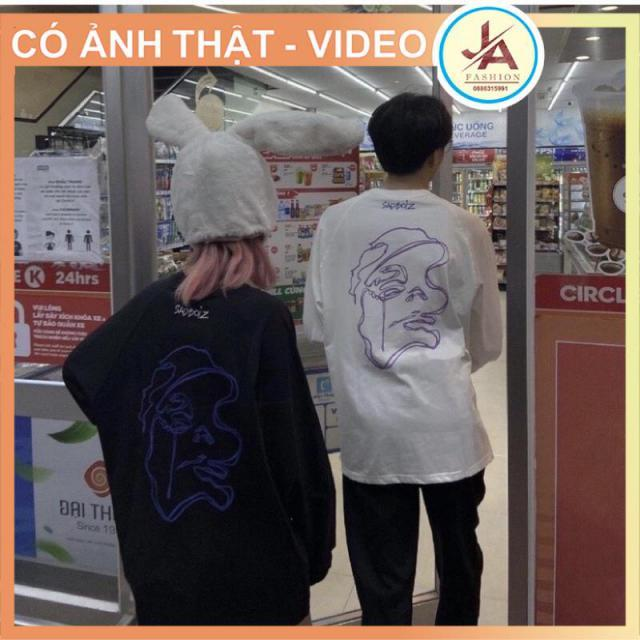Shirt: (62, 271, 338, 624), (298, 188, 506, 482)
